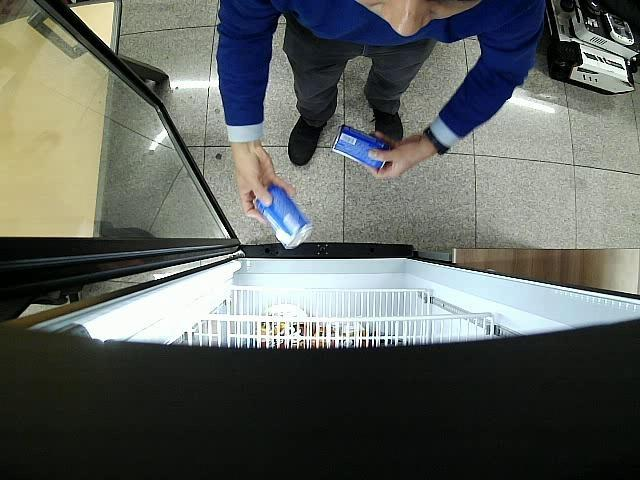13_pocariSweat: (253, 185, 312, 249), (332, 125, 392, 171)
